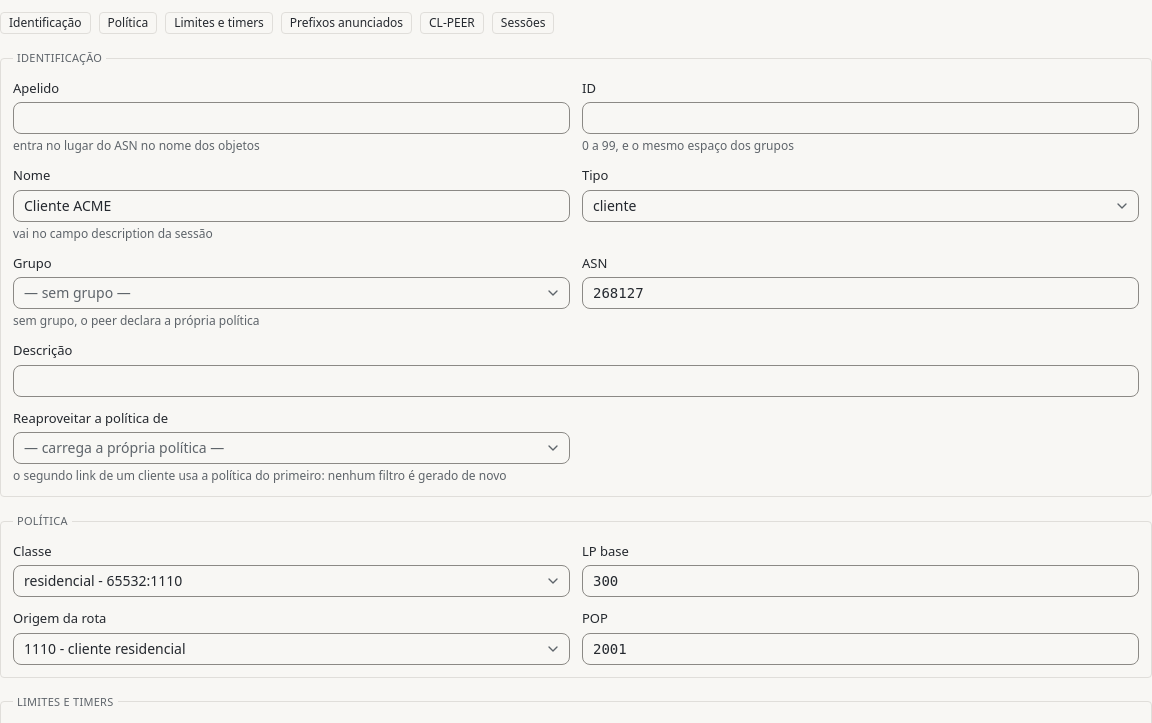
Test: o formulario do peer › o peer de id 0 e origem como as outras, e nao o formulario novo
Click the dropdown named "reaproveitar" at (124, 448), box [13,432,570,464]
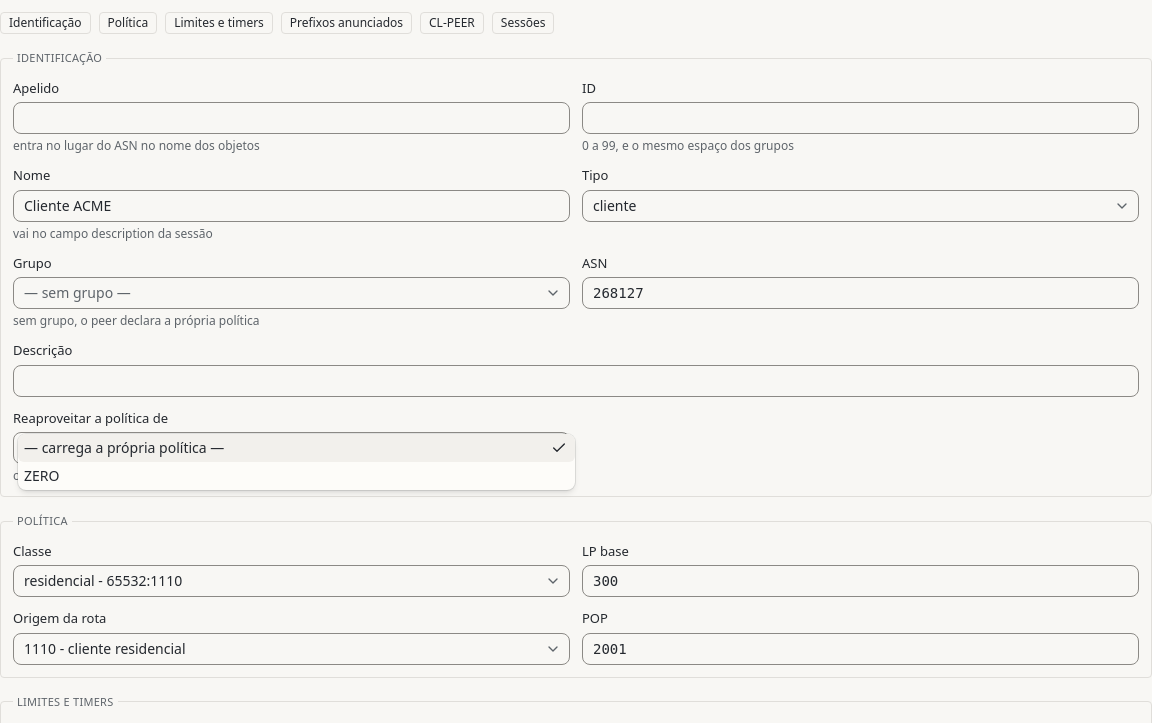
Check: the element showing "Apelido entra no lugar do ASN no nome dos objetos" does not show "reaproveita", box [13,78,570,154]
Check: the options "ZERO" read "ZERO", in this order, box [24,466,59,485]
